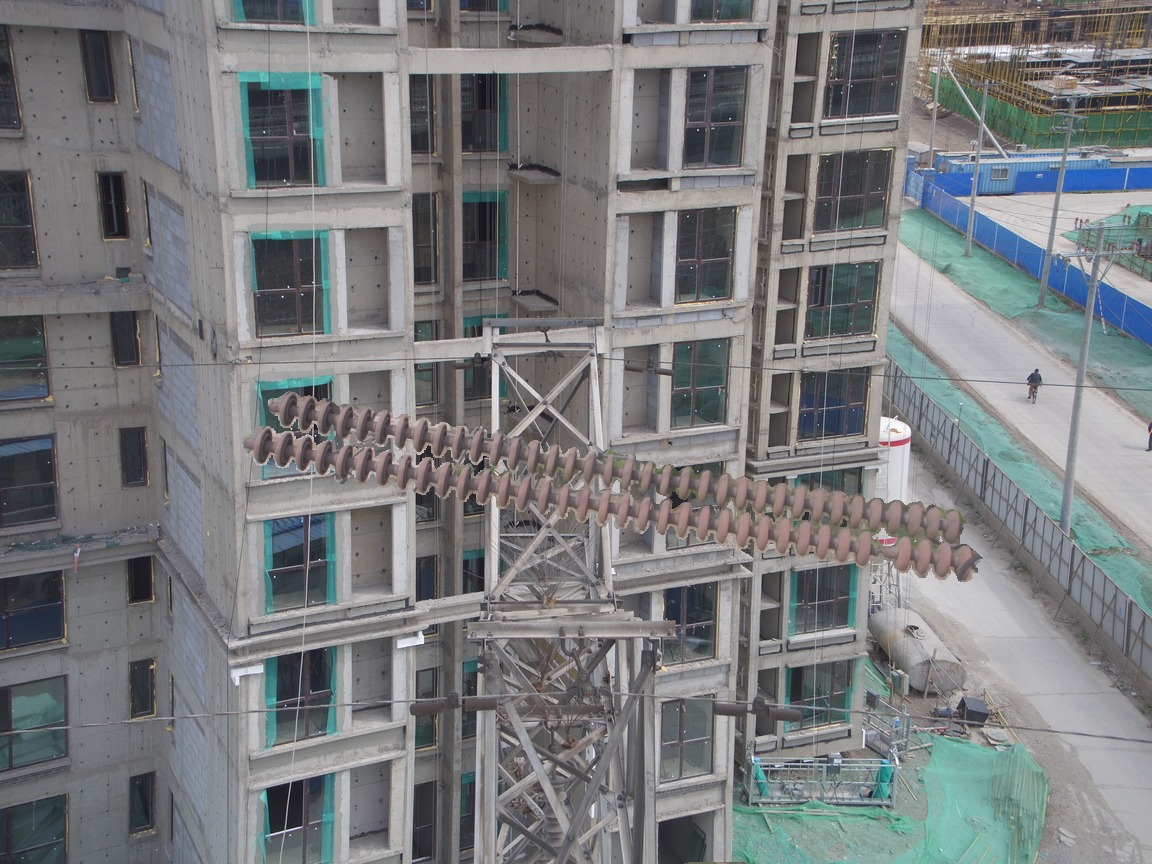defect: (848, 525, 919, 579)
